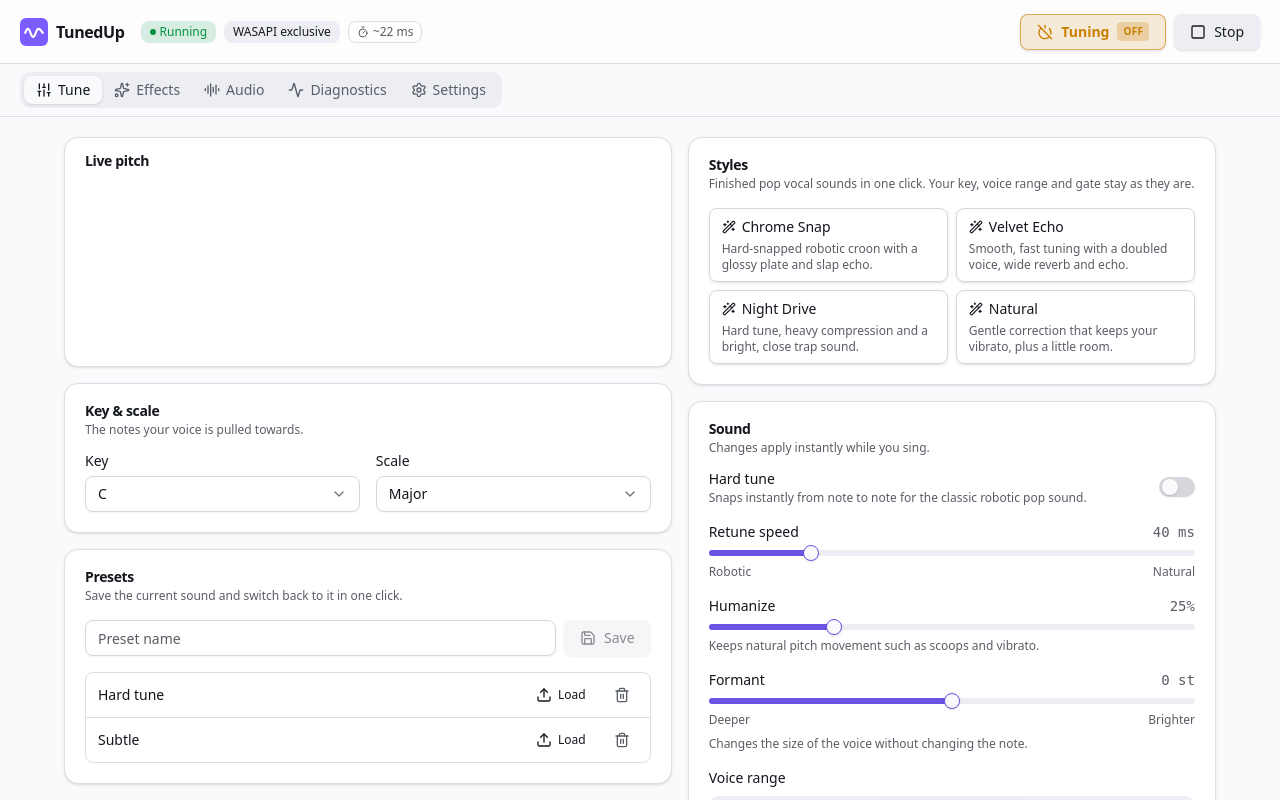
Test: App shell › FR-25: has an Effects tab
This screenshot has width=1280, height=800.
Click the tab "Effects". click: point(147, 90)
box: [102,76,192,104]
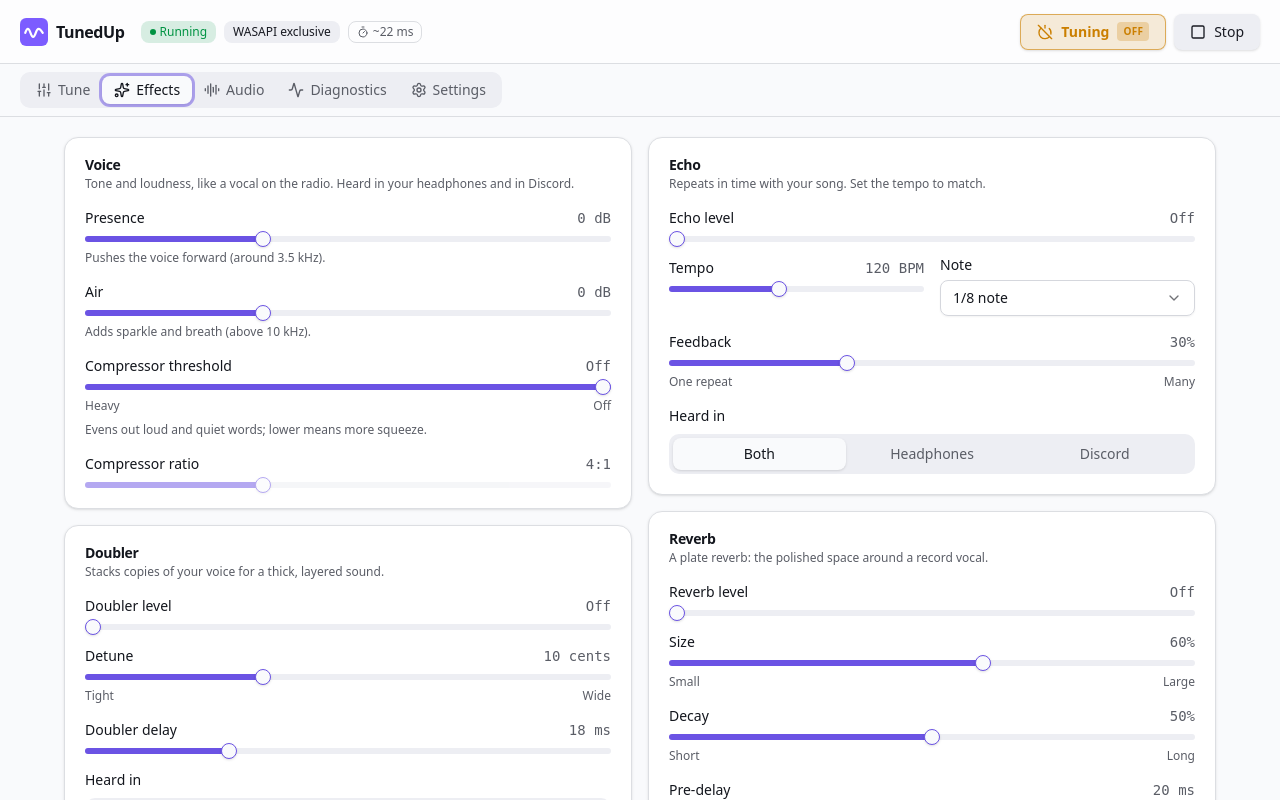
Expected: the slider named "Reverb level" is shown, [669,605,685,621]
